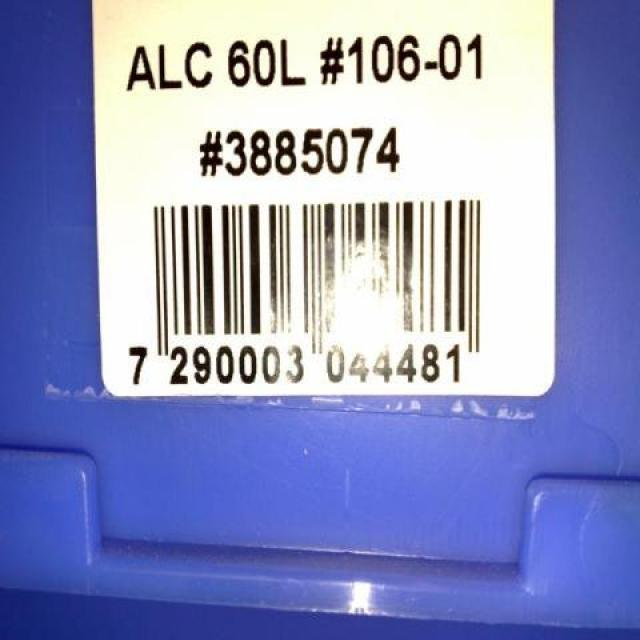Barcode: (121, 188, 506, 392)
